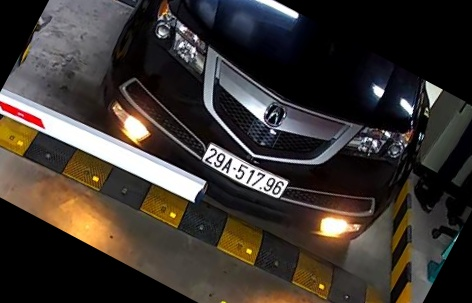plate: (199, 140, 291, 206)
